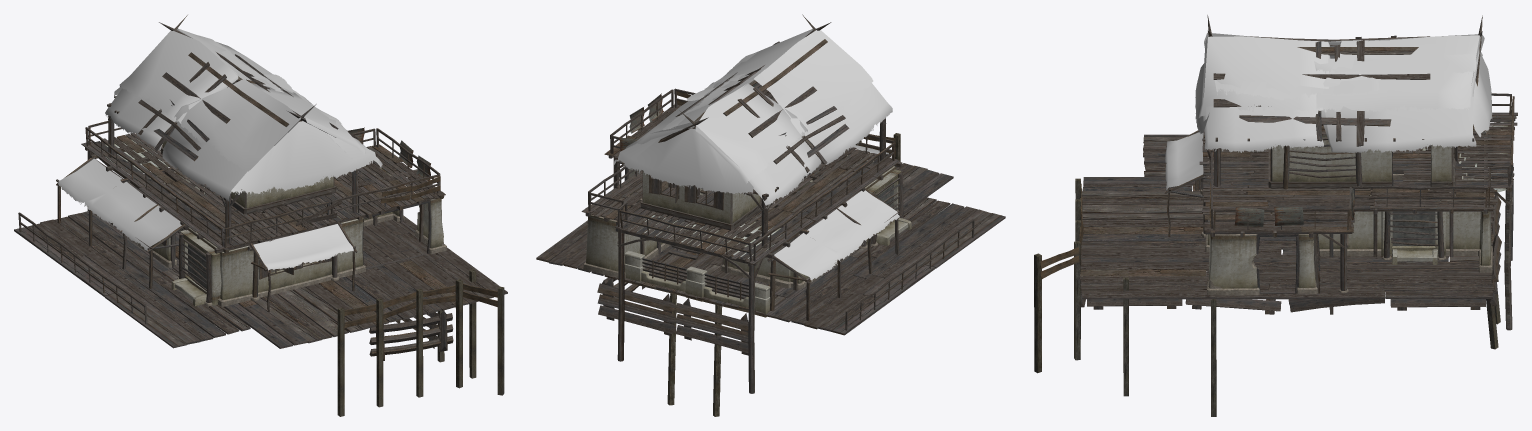
The model's file is House.FBX.
3 renders of one model, left to right at view 1: azimuth 30°, elevation 25°; view 2: azimuth 150°, elevation 25°; view 3: azimuth 270°, elevation 25°, orthographic. The views are drawn at different scales.
Visible parts, largest first — view 1: 4f5ebd22 (×2), 734ed7bf, 8417507c, 247cc174, 258752c4, 050239f8, d18d6e1f; view 2: 4f5ebd22 (×3), 734ed7bf, 8417507c, 247cc174, 050239f8, d18d6e1f, 3b60467b; view 3: 4f5ebd22 (×2), 734ed7bf, 8417507c, 247cc174, 050239f8, d18d6e1f, 7db7b43b, 258752c4.
Boxes of the visible parts, box(x1,y1,x2,y2) form: 4f5ebd22 (×2): box(14, 15, 507, 360); 734ed7bf: box(58, 28, 382, 270); 8417507c: box(130, 141, 443, 306); 247cc174: box(337, 269, 504, 416); 258752c4: box(296, 176, 497, 327); 050239f8: box(126, 166, 447, 306); d18d6e1f: box(348, 127, 430, 180); 4f5ebd22 (×3): box(536, 14, 1005, 393); 734ed7bf: box(614, 29, 899, 281); 8417507c: box(586, 155, 911, 317); 247cc174: box(667, 133, 900, 416); 050239f8: box(583, 194, 877, 289); d18d6e1f: box(619, 93, 663, 151); 3b60467b: box(635, 215, 783, 258); 4f5ebd22 (×2): box(1079, 15, 1517, 330); 734ed7bf: box(1165, 32, 1492, 190); 8417507c: box(1207, 135, 1491, 288); 247cc174: box(1034, 178, 1500, 416); 050239f8: box(1200, 174, 1492, 295); d18d6e1f: box(1234, 188, 1354, 227); 7db7b43b: box(1392, 211, 1434, 245); 258752c4: box(1040, 149, 1211, 279).
Bounding box in the file's own units: 41.43 × 37.64 × 51.8.
